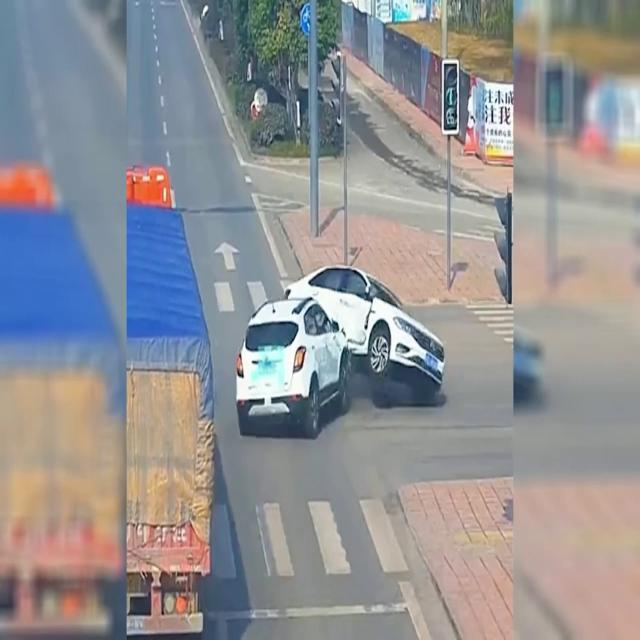accident: (235, 268, 448, 432)
